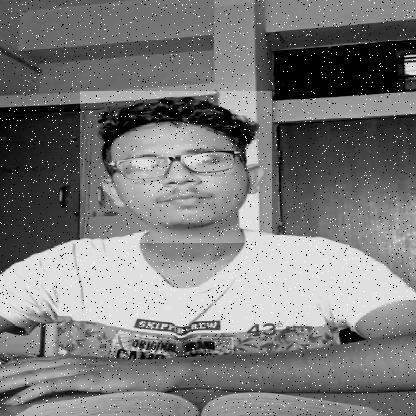Normal: (80, 91, 272, 243)
